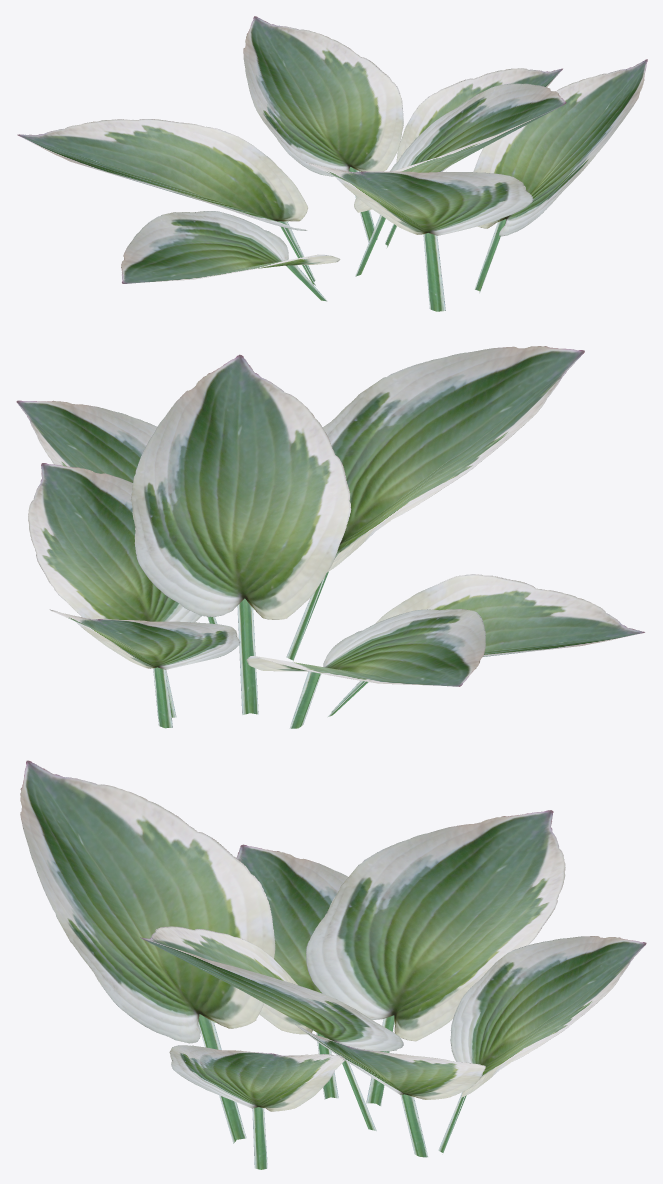
Rendered from plant_small_wg_04U.fbx.
3 renders of one model, top to bottom at view 1: azimuth 30°, elevation 25°; view 2: azimuth 150°, elevation 25°; view 3: azimuth 270°, elevation 25°, orthographic. The views are drawn at different scales.
Visible parts, largest first — view 1: plant_small_wg_04U; view 2: plant_small_wg_04U; view 3: plant_small_wg_04U.
Part boxes in pixels (box(x1,y1,x2,y2)): plant_small_wg_04U: box(17, 16, 647, 311); plant_small_wg_04U: box(16, 346, 644, 728); plant_small_wg_04U: box(20, 760, 646, 1169).
Bounding box in the file's own units: 147 × 64.13 × 128.
